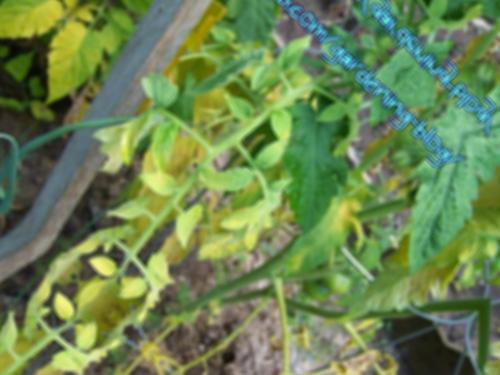Tomato leaf yellow virus: (249, 163, 391, 308), (194, 147, 265, 218), (137, 112, 203, 179), (245, 118, 308, 182), (133, 155, 186, 208)
